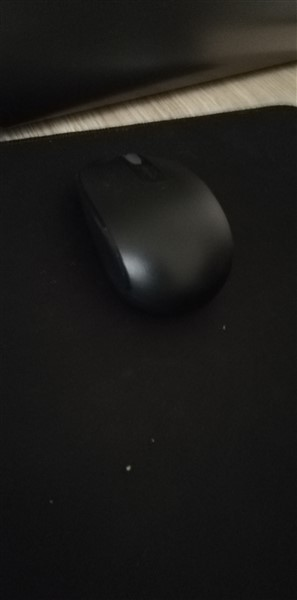mouse: (64, 139, 253, 322)
